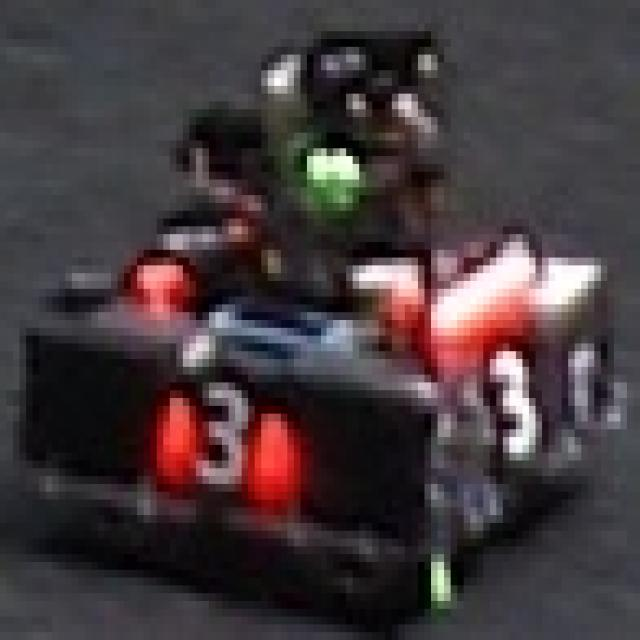R3: (131, 351, 307, 523)
